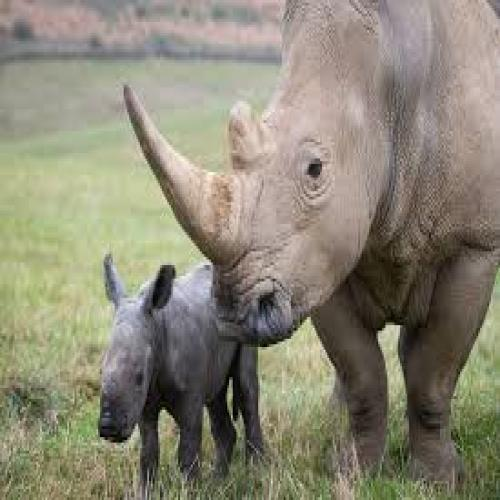rhino-endangered: (122, 0, 496, 471), (96, 244, 264, 480)
